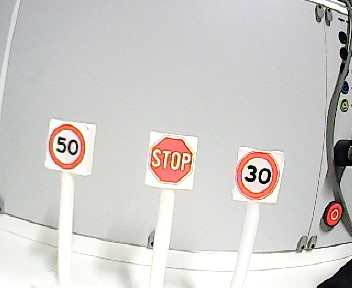30-bord: (234, 150, 280, 201)
50-bord: (48, 124, 84, 170)
stop-bord: (149, 134, 195, 185)
